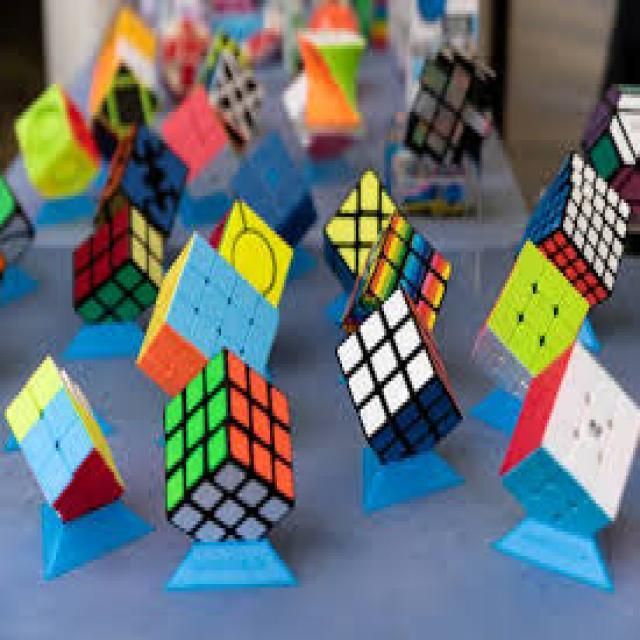Rub: (156, 347, 299, 547), (505, 346, 640, 530), (140, 231, 288, 394), (331, 294, 468, 457), (2, 355, 126, 515), (474, 245, 602, 396), (518, 158, 630, 300), (343, 209, 453, 347), (392, 46, 507, 160), (64, 208, 172, 322), (4, 86, 97, 195), (144, 88, 232, 196), (323, 170, 398, 282), (103, 126, 191, 220), (183, 52, 267, 136)
